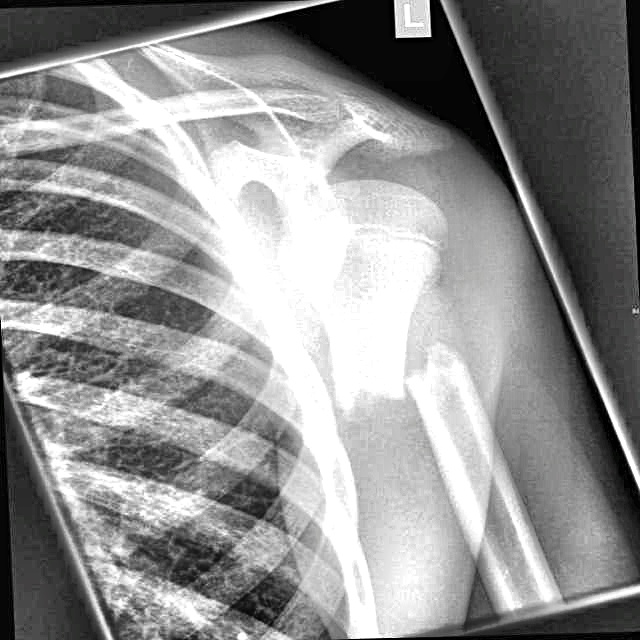Transverse: (316, 317, 519, 454)
